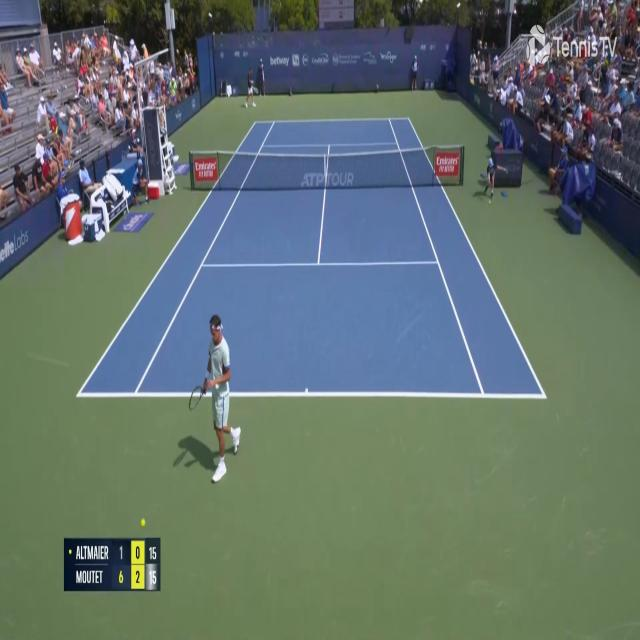tennis-player: (186, 310, 244, 488), (243, 62, 260, 111)
